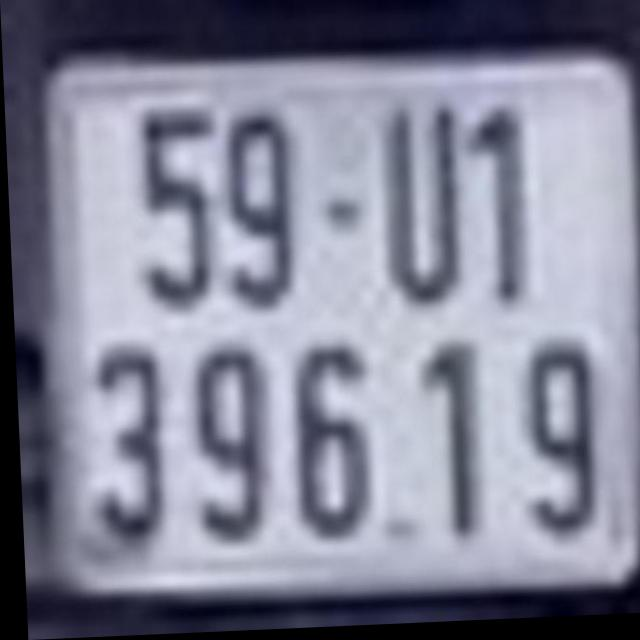1: (412, 327, 482, 542), (469, 109, 536, 304)
3: (89, 341, 166, 544)
5: (126, 100, 217, 316)
6: (288, 340, 370, 549)
9: (512, 334, 590, 540), (217, 106, 291, 312), (186, 348, 254, 543)
U: (379, 107, 464, 307)
